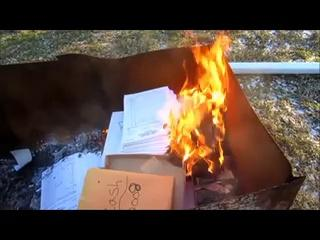Fire: (167, 29, 234, 172)
